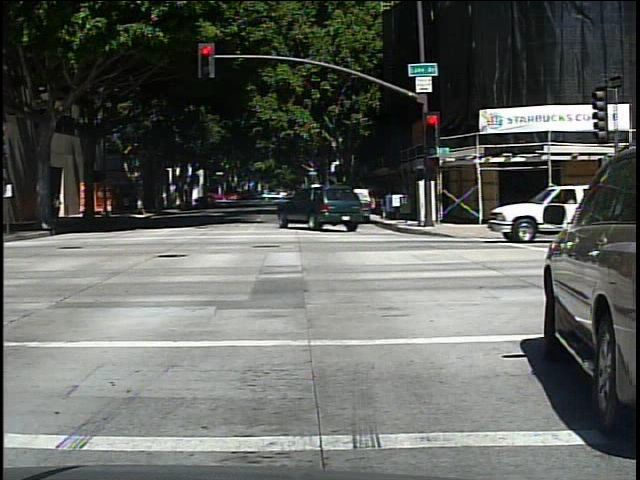person: (53, 190, 64, 223)
